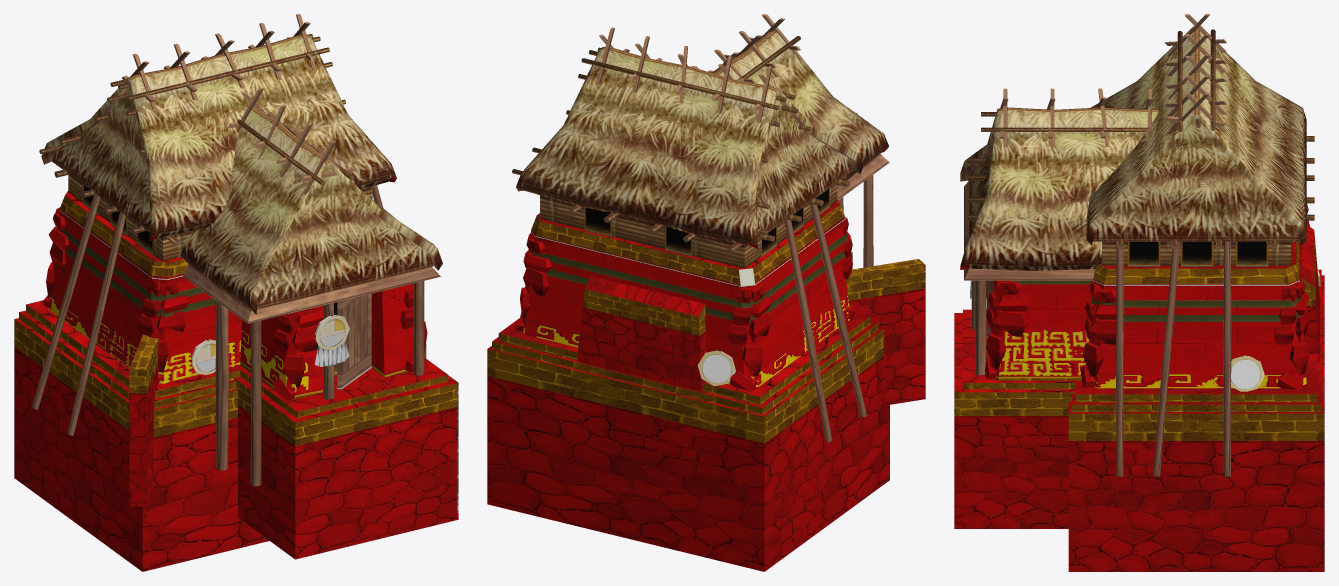
Rendered from zapo_house_a.dae.
3 views of the same model, side by side, from view 1: azimuth 30°, elevation 25°; view 2: azimuth 150°, elevation 25°; view 3: azimuth 270°, elevation 25° (orthographic). The views are drawn at different scales.
Visible parts, largest first — view 1: HouseA; view 2: HouseA; view 3: HouseA.
Boxes of the visible parts, x1,y1,x2,y2 form: HouseA: [14, 14, 458, 571]; HouseA: [487, 14, 925, 571]; HouseA: [954, 14, 1324, 571].
Bounding box in the file's own units: 14.62 × 14 × 18.77.
